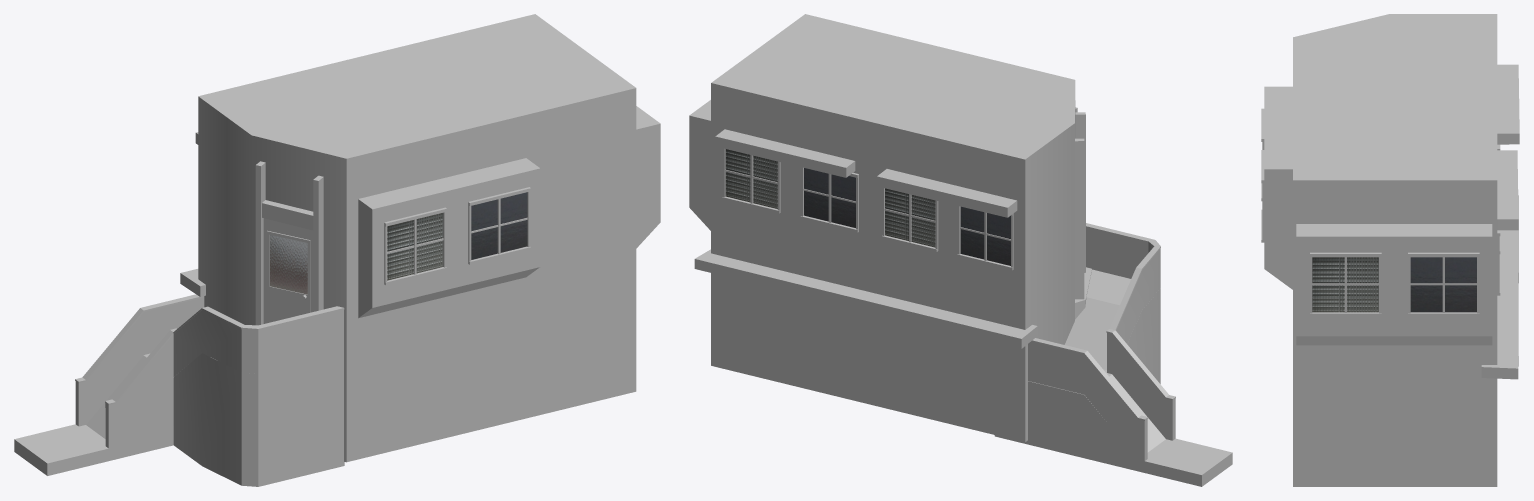
Rendered from apart_high_2a.fbx.
The picture shows the model from 3 angles, left to right: view 1: azimuth 30°, elevation 25°; view 2: azimuth 150°, elevation 25°; view 3: azimuth 270°, elevation 25°; orthographic projection. The views are drawn at different scales.
Visible parts, largest first — view 1: apart_high_2a; view 2: apart_high_2a; view 3: apart_high_2a.
Part boxes in pixels (x1=…): apart_high_2a: x1=14, y1=14, x2=660, y2=486; apart_high_2a: x1=689, y1=14, x2=1232, y2=486; apart_high_2a: x1=1261, y1=14, x2=1519, y2=486.
Size of the model in its own units: 11.78 by 6.27 by 4.72.
